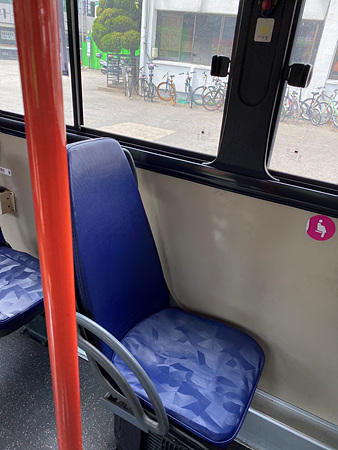seat: (67, 135, 268, 439)
